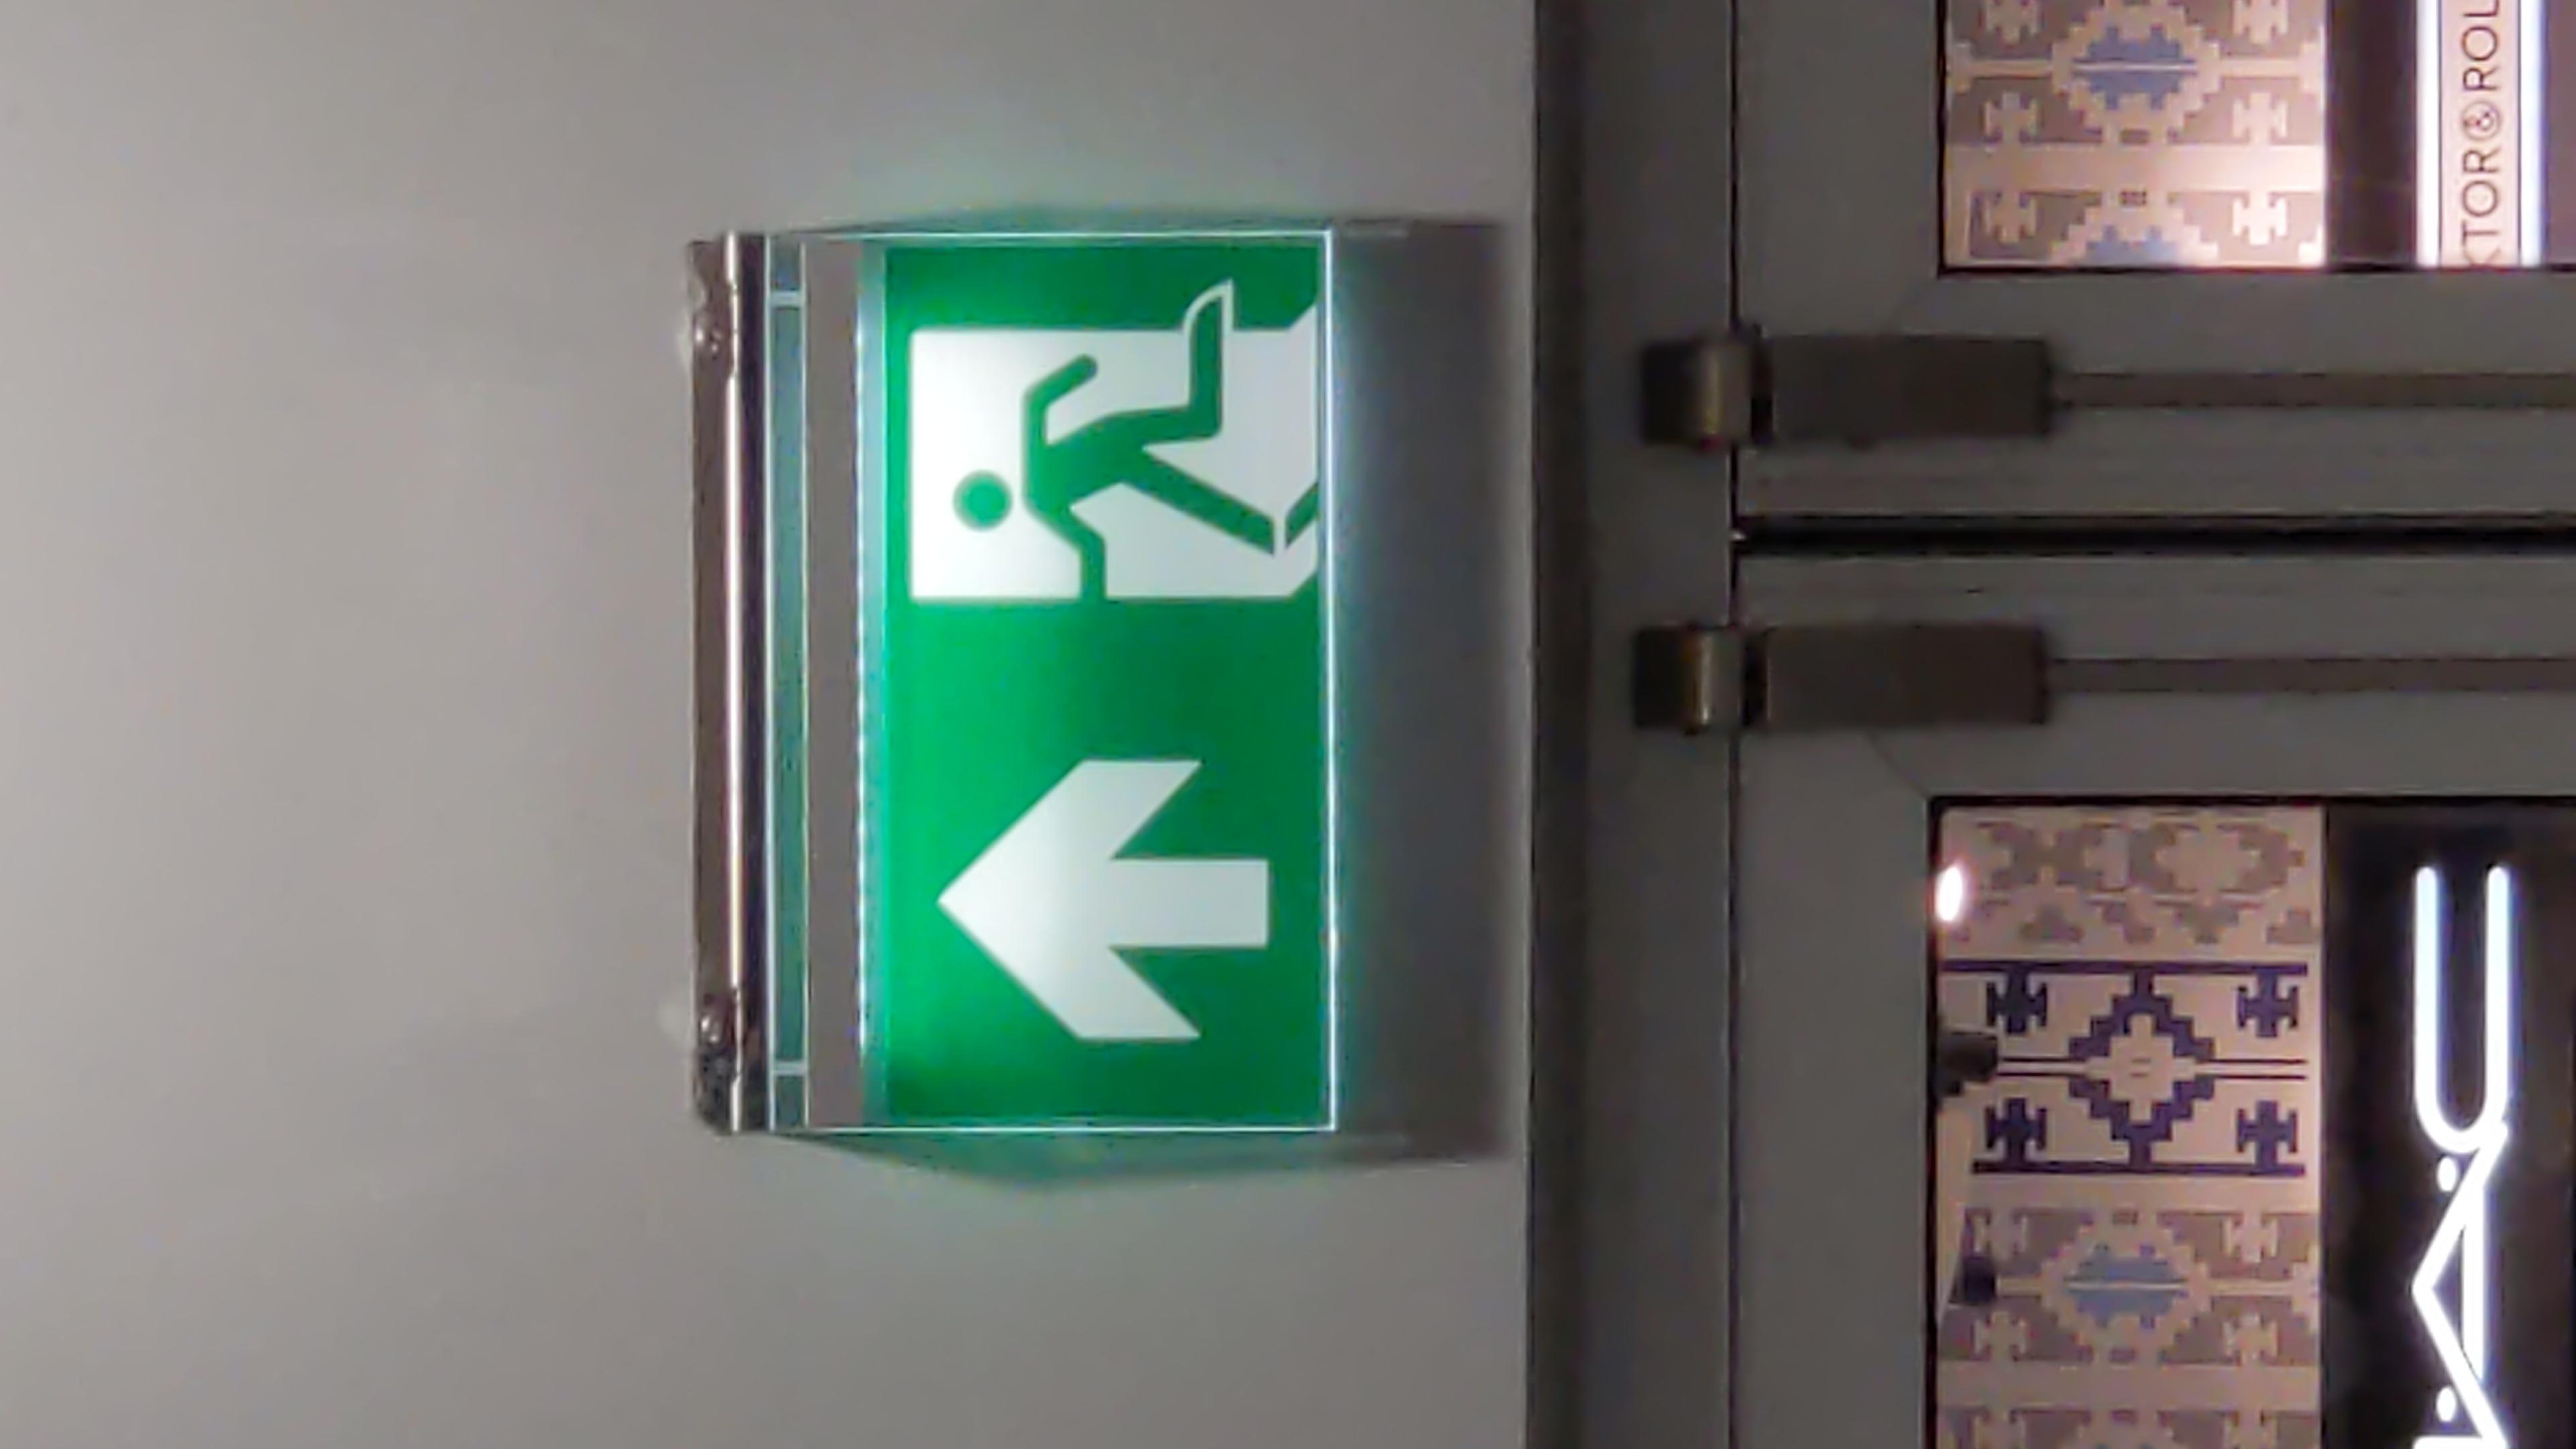emergency exit: (1476, 506, 2093, 747)
emergency up arrow: (701, 522, 1267, 725)
